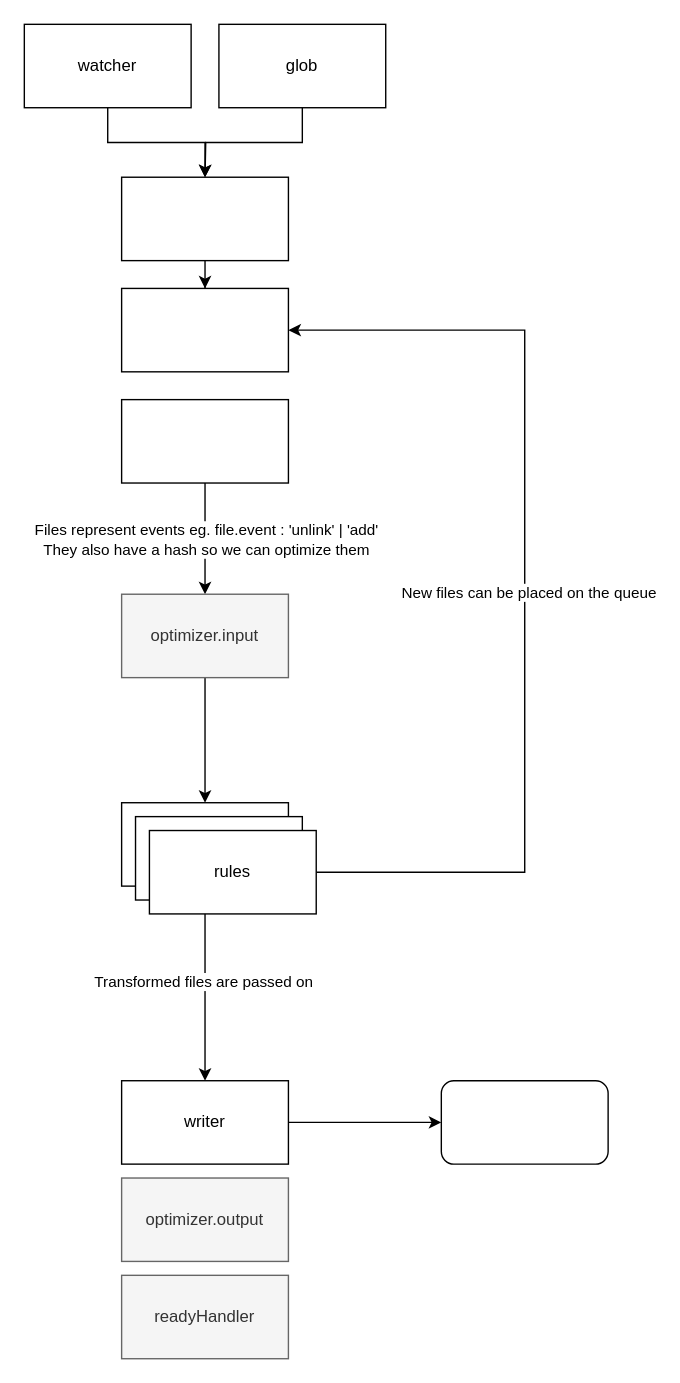
This 680x1383 diagram has some shape labels left out. Here are the shapes that lost their labels. From the top down, the box of each, then its label:
(120, 176, 288, 261): agnostic input
(120, 287, 288, 372): input
(120, 398, 288, 483): enricher
(440, 1079, 608, 1164): fs
